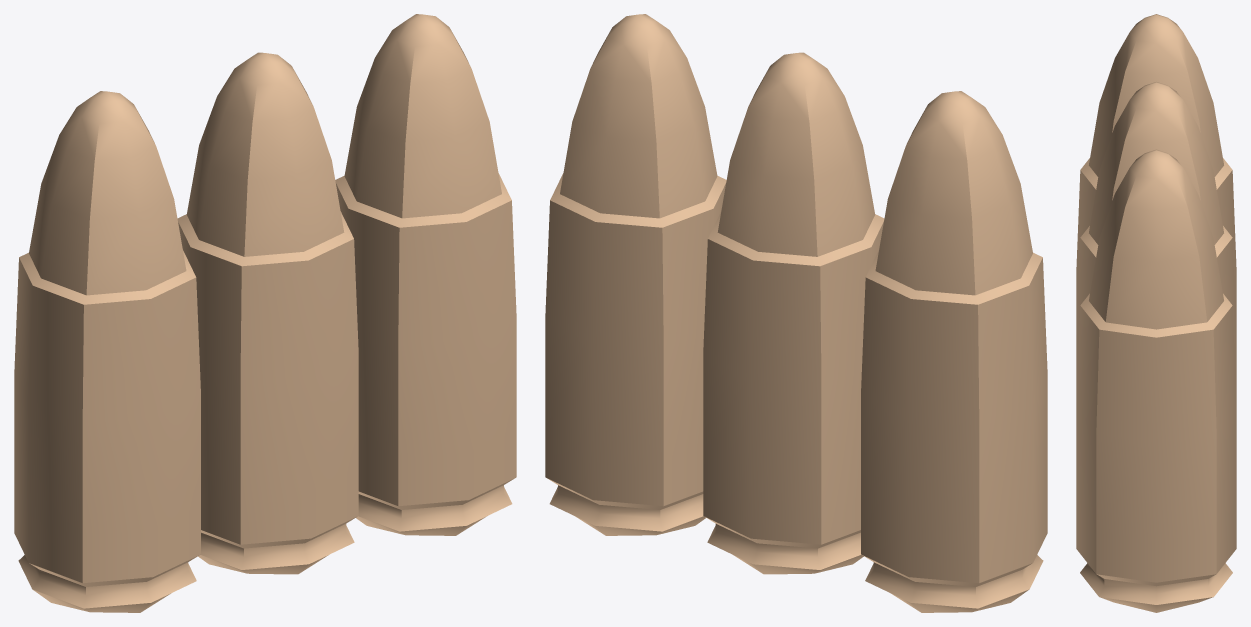
Rendered from quaternius-ultimate-space-pickup-bullets-transformed.glb.
The picture shows the model from 3 angles, left to right: view 1: azimuth 30°, elevation 25°; view 2: azimuth 150°, elevation 25°; view 3: azimuth 270°, elevation 25°; orthographic projection. The views are drawn at different scales.
Parts seen in each view (by area): view 1: Pickup_Bullets; view 2: Pickup_Bullets; view 3: Pickup_Bullets.
Boxes of the visible parts, left/top/right/bottom form: Pickup_Bullets: left=14, top=14, right=516, bottom=612; Pickup_Bullets: left=545, top=14, right=1047, bottom=612; Pickup_Bullets: left=1076, top=14, right=1236, bottom=612.
Size of the model in its own units: 0.8284 by 0.8421 by 0.2761.
1 material, 1 textured.
